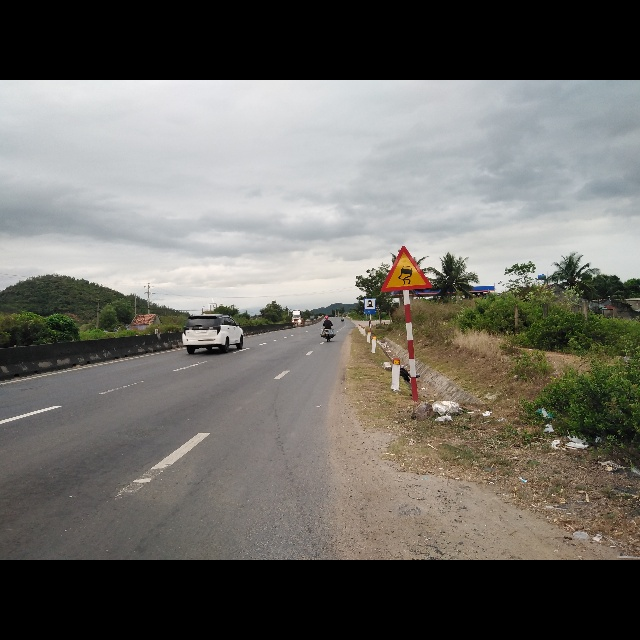Đường trơn trượt: (378, 242, 430, 292)
